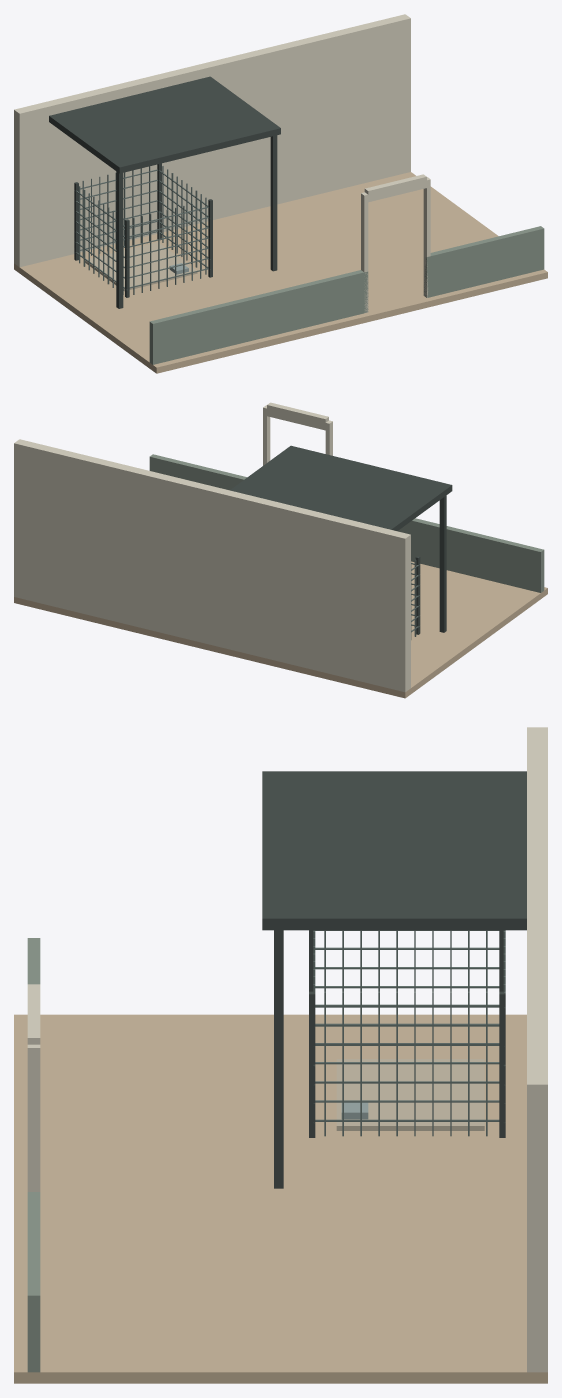
3 renders of one model, top to bottom at view 1: azimuth 30°, elevation 25°; view 2: azimuth 150°, elevation 25°; view 3: azimuth 270°, elevation 25°, orthographic. The views are drawn at different scales.
Parts seen in each view (by area): view 1: BRICK_1, GROUND_0, AWNING_2, FY_86, FY_87, KENNEL_81, POST_3, POST_4, YARDG-lintel_85, YARDG-j2_84, YARDG-j1_83; view 2: BRICK_1, GROUND_0, AWNING_2, FY_86, FY_87, POST_3, YARDG-lintel_85, YARDG-j2_84, KP_6; view 3: GROUND_0, AWNING_2, BRICK_1, KENNEL_81, POST_4, FY_87, YARDG-j2_84, KP_8, KP_7, YARDG-lintel_85.
Part boxes in pixels (bbox=[...]): BRICK_1: bbox=[14, 14, 410, 267]; GROUND_0: bbox=[14, 172, 547, 373]; AWNING_2: bbox=[49, 76, 280, 173]; FY_86: bbox=[149, 270, 368, 364]; FY_87: bbox=[424, 226, 544, 297]; KENNEL_81: bbox=[85, 242, 197, 291]; POST_3: bbox=[116, 171, 123, 308]; POST_4: bbox=[270, 135, 277, 271]; YARDG-lintel_85: bbox=[364, 174, 426, 202]; YARDG-j2_84: bbox=[423, 177, 430, 297]; YARDG-j1_83: bbox=[361, 192, 368, 312]; BRICK_1: bbox=[14, 439, 410, 692]; GROUND_0: bbox=[14, 561, 547, 698]; AWNING_2: bbox=[230, 445, 452, 531]; FY_86: bbox=[398, 518, 544, 592]; FY_87: bbox=[149, 454, 246, 490]; POST_3: bbox=[439, 495, 446, 632]; YARDG-lintel_85: bbox=[267, 402, 328, 430]; YARDG-j2_84: bbox=[263, 405, 270, 465]; KP_6: bbox=[415, 556, 420, 634]; GROUND_0: bbox=[14, 1014, 547, 1383]; AWNING_2: bbox=[262, 771, 526, 930]; BRICK_1: bbox=[527, 727, 547, 1372]; KENNEL_81: bbox=[336, 1059, 484, 1130]; POST_4: bbox=[274, 930, 283, 1188]; FY_87: bbox=[27, 1192, 40, 1372]; YARDG-j2_84: bbox=[27, 1044, 40, 1191]; KP_8: bbox=[309, 991, 315, 1137]; KP_7: bbox=[499, 991, 505, 1137]; YARDG-lintel_85: bbox=[27, 984, 40, 1044].
Size of the model in its own units: 8 by 3.12 by 5.05.
